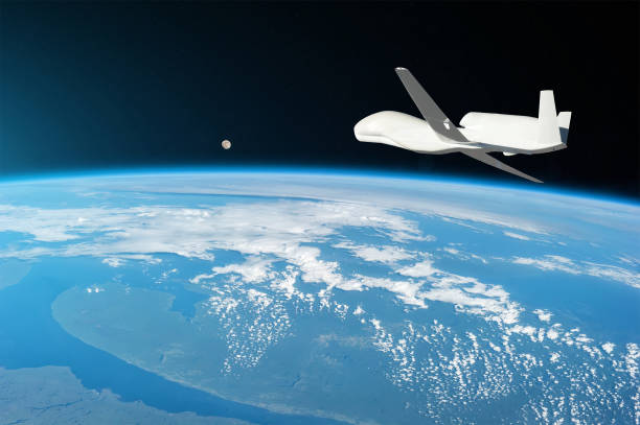military drone: (353, 66, 571, 184)
